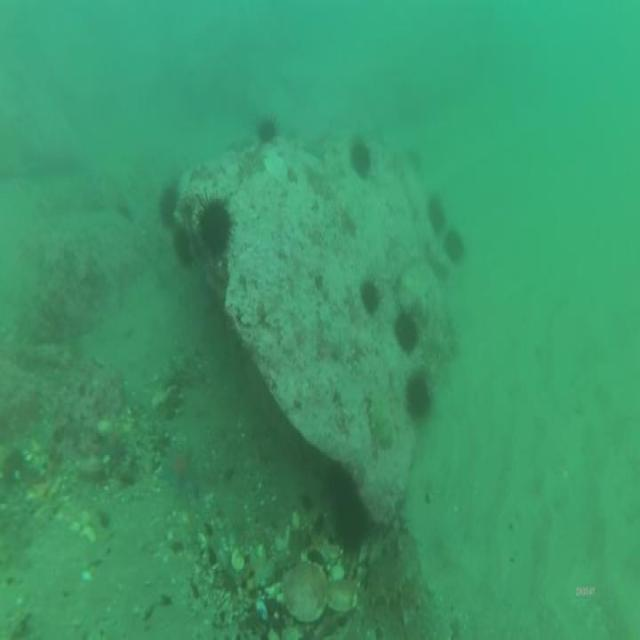echinus: (332, 485, 367, 544), (201, 199, 230, 251), (394, 314, 418, 354), (406, 378, 428, 417), (350, 142, 372, 174), (175, 229, 193, 266), (361, 280, 380, 313), (161, 193, 179, 226), (428, 198, 444, 230), (446, 228, 462, 258), (258, 116, 274, 142)
holothurian: (372, 562, 420, 606)
scallop: (279, 556, 329, 628)
starfish: (163, 449, 199, 488)
